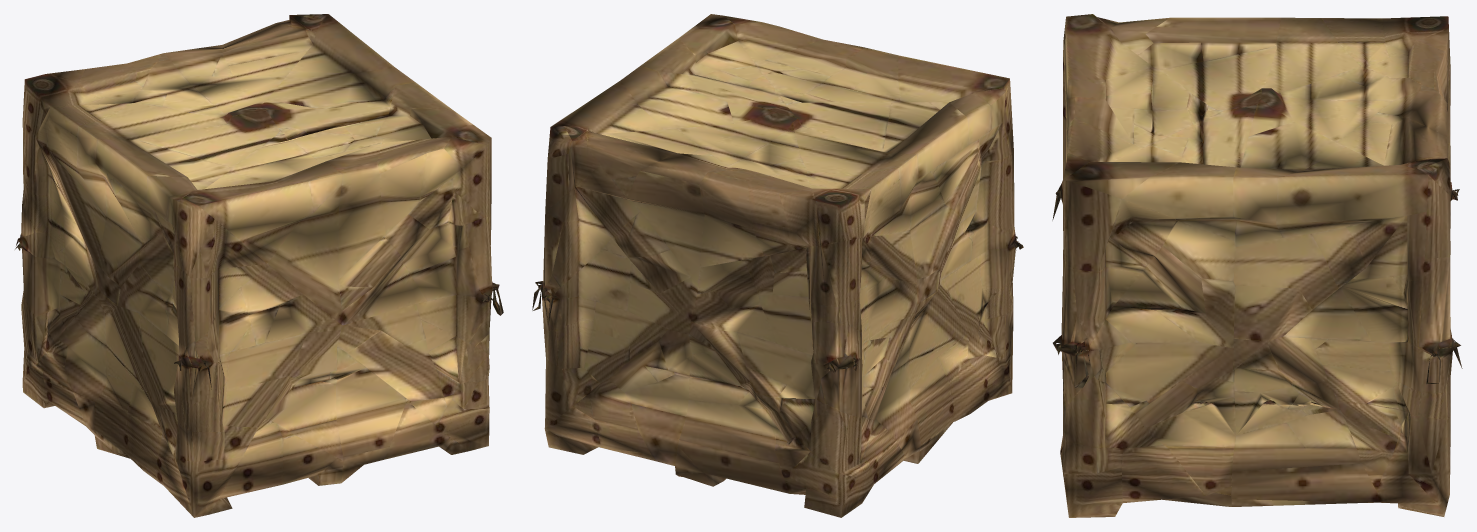
The model's file is pal_crate.glb.
3 renders of one model, left to right at view 1: azimuth 30°, elevation 25°; view 2: azimuth 150°, elevation 25°; view 3: azimuth 270°, elevation 25°, orthographic. The views are drawn at different scales.
Bounding box in the file's own units: 1.87 × 1.72 × 1.85.
Materials: 1 (1 with a texture image).
